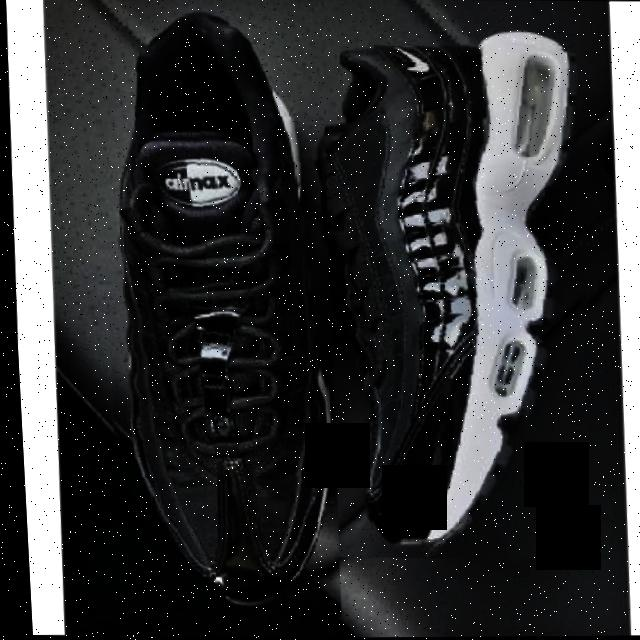shoe: (291, 11, 611, 562), (79, 3, 345, 622)
